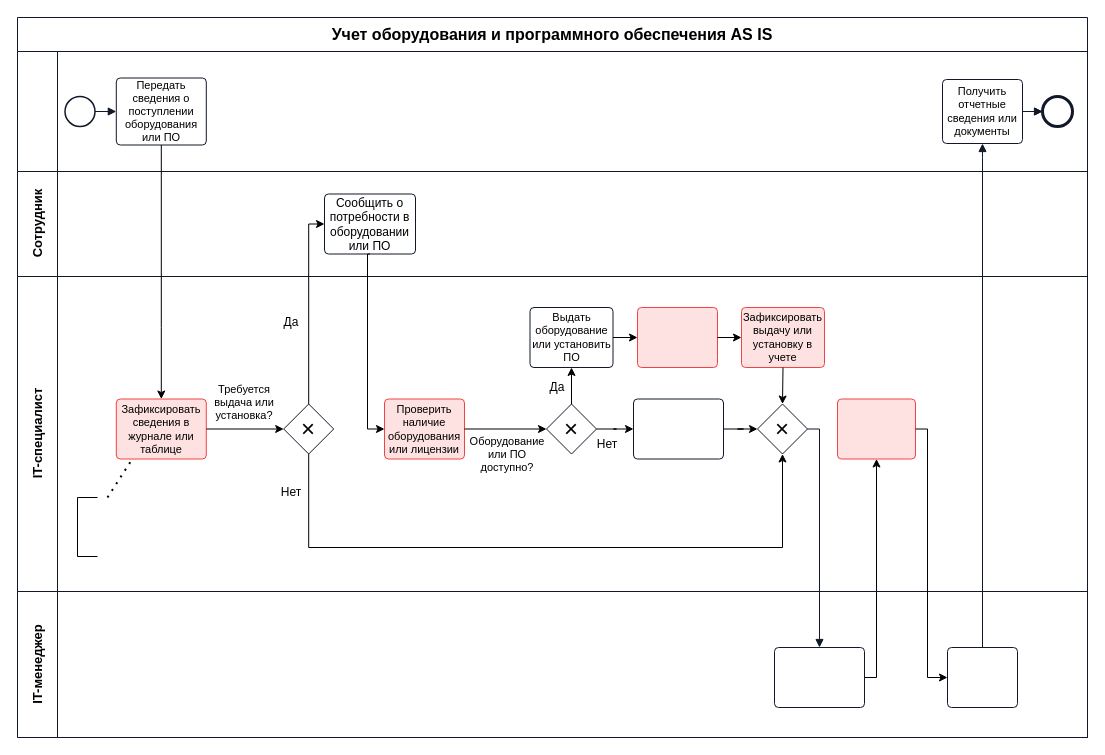
This 1105x755 diagram has some shape labels left out. The box of each missing label's shape, as (x1, y1, x2, y2) in pixels:
Бухгалтерия: (16, 50, 1088, 172)
Запросить сведения для контроля или отчетности: (774, 646, 864, 708)
Изучить полученные сведения: (946, 646, 1018, 708)
Красным цветом выделены ручные проблемные операции текущего процесса: (76, 496, 98, 556)
Обновить учетные данные: (636, 306, 718, 368)
Собрать данные из таблиц и документов: (836, 398, 916, 459)
Сообщить сотруднику о невозможности выполнения: (632, 398, 724, 459)
